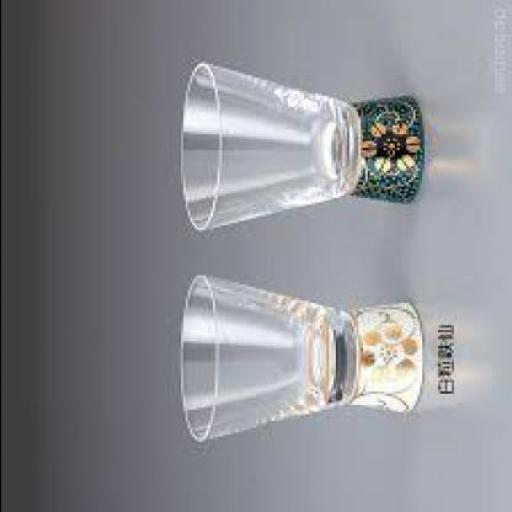glass: (177, 64, 421, 234), (175, 275, 419, 444)
